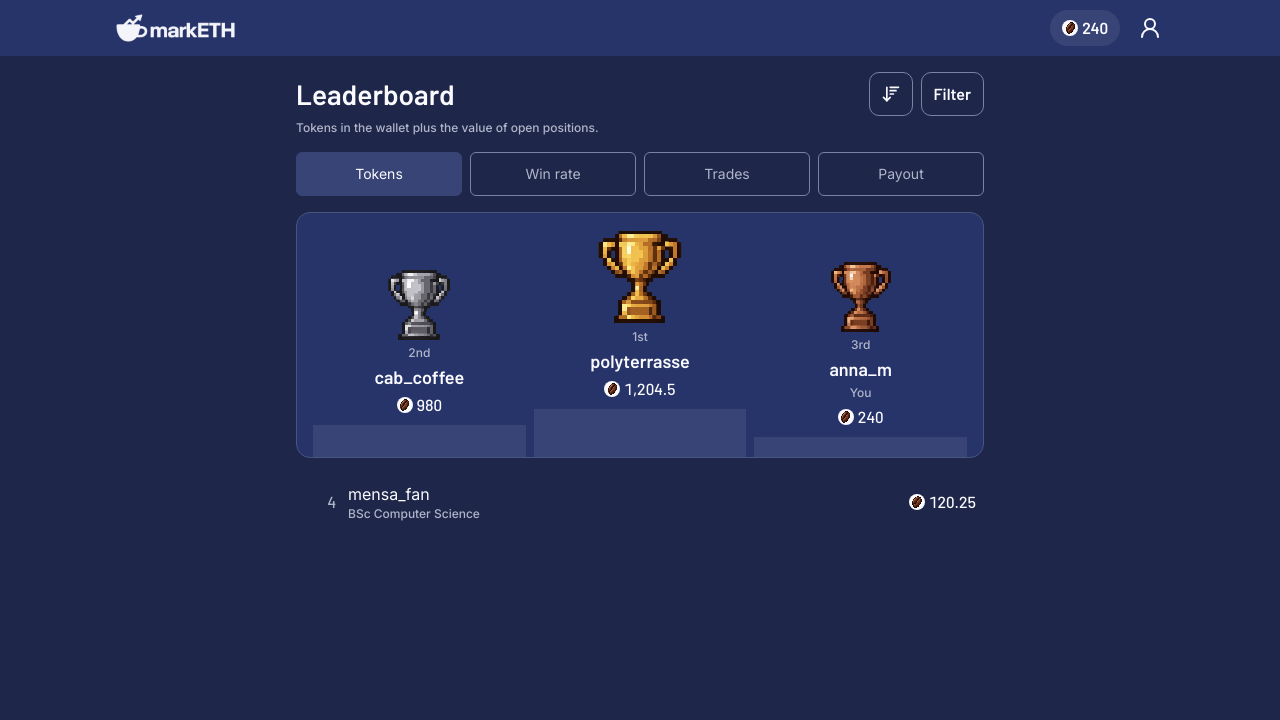
Test: what the sheet offers › the Programme picker is disabled until a level is chosen, then holds the programmes of that level
Expected: the element that starts with "1st" is shown, [296,212,984,530]
Click the button "Filter". click: (952, 94)
box: [921,72,984,116]
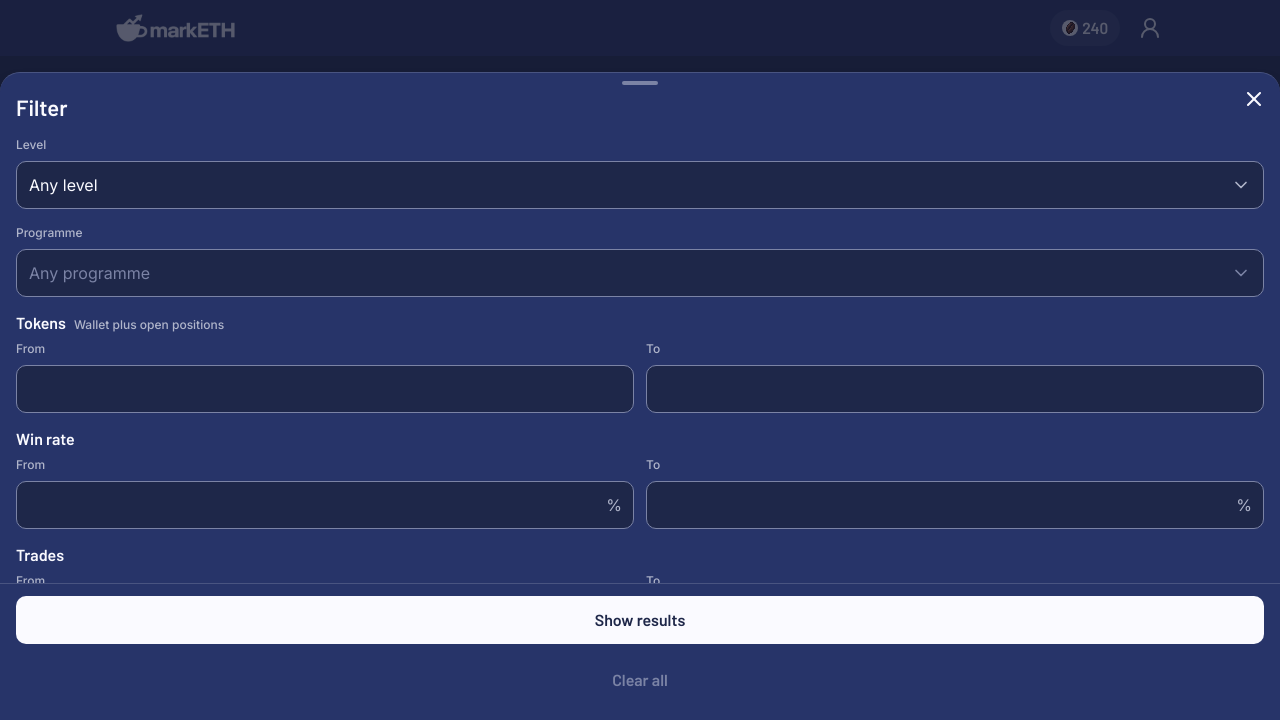
Now the button labelled "Any programme" is disabled, box [16,249,1264,297]
Click the button labelled "Any level". click: (63, 185)
box: [16,161,1264,209]
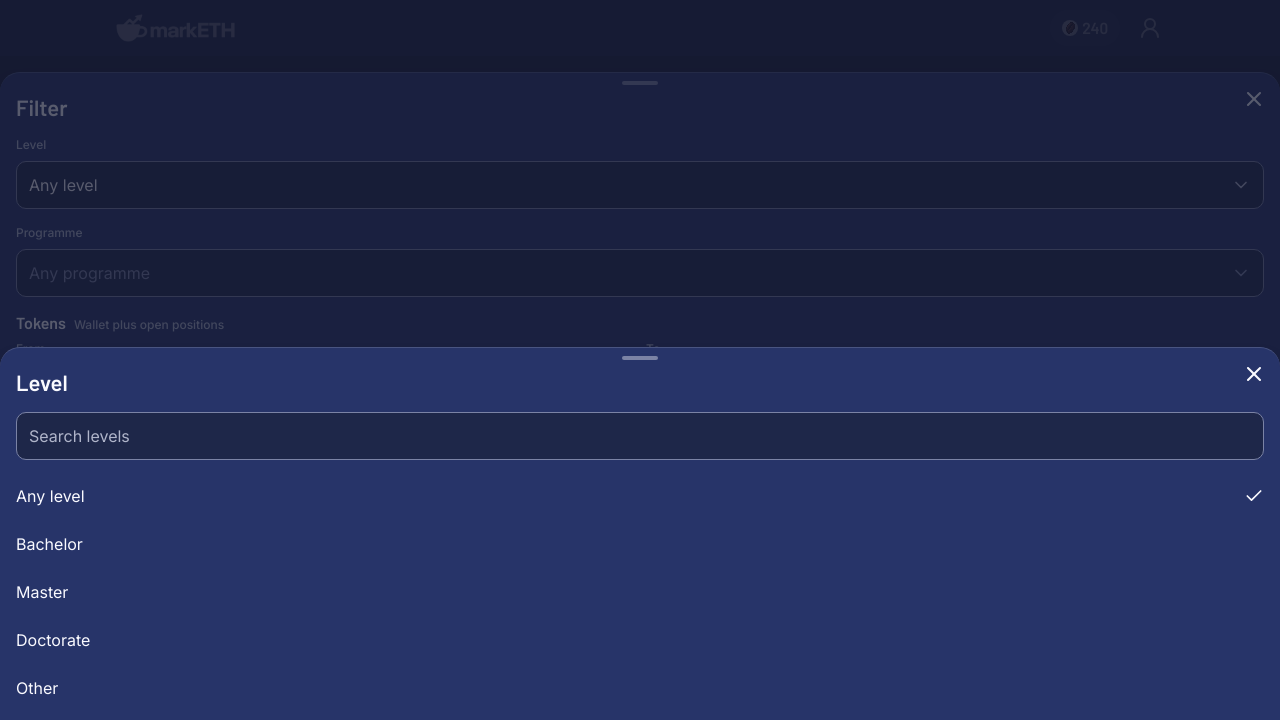
Type "mast" into the search field. click: (640, 436)
box: [16,412,1264,460]
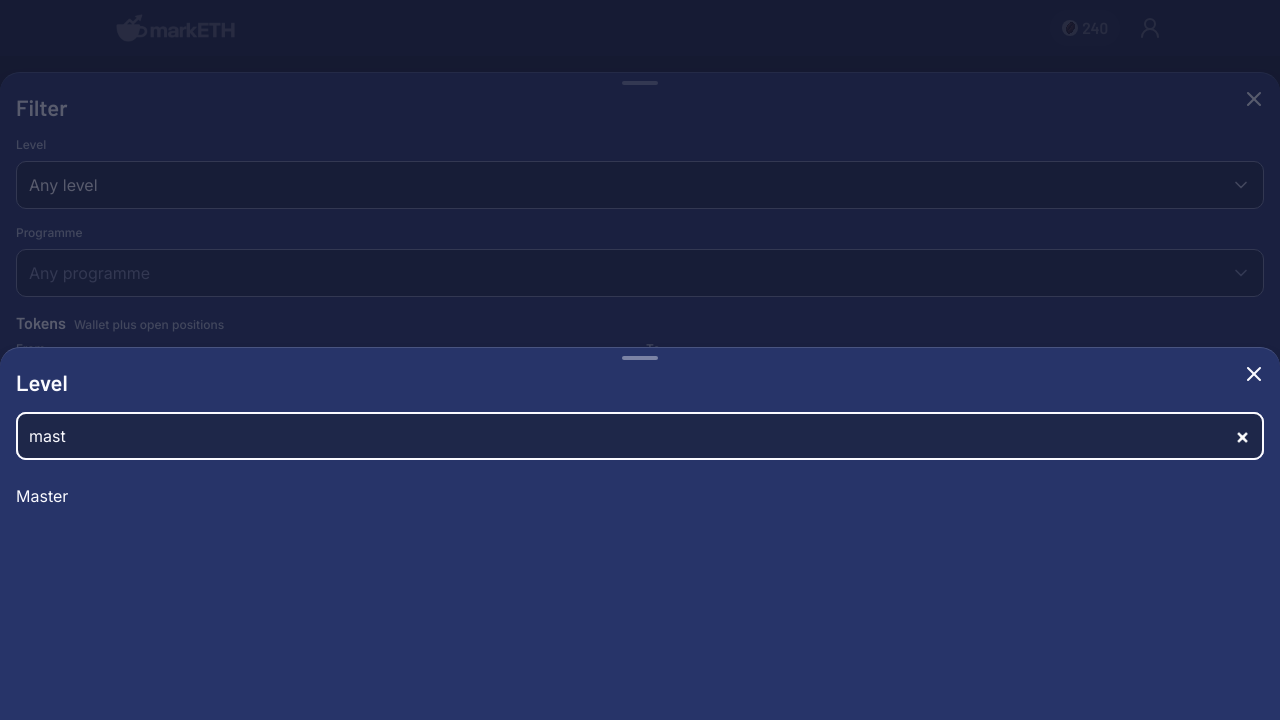
Click the option "Master". click: (42, 496)
box: [16,486,68,506]
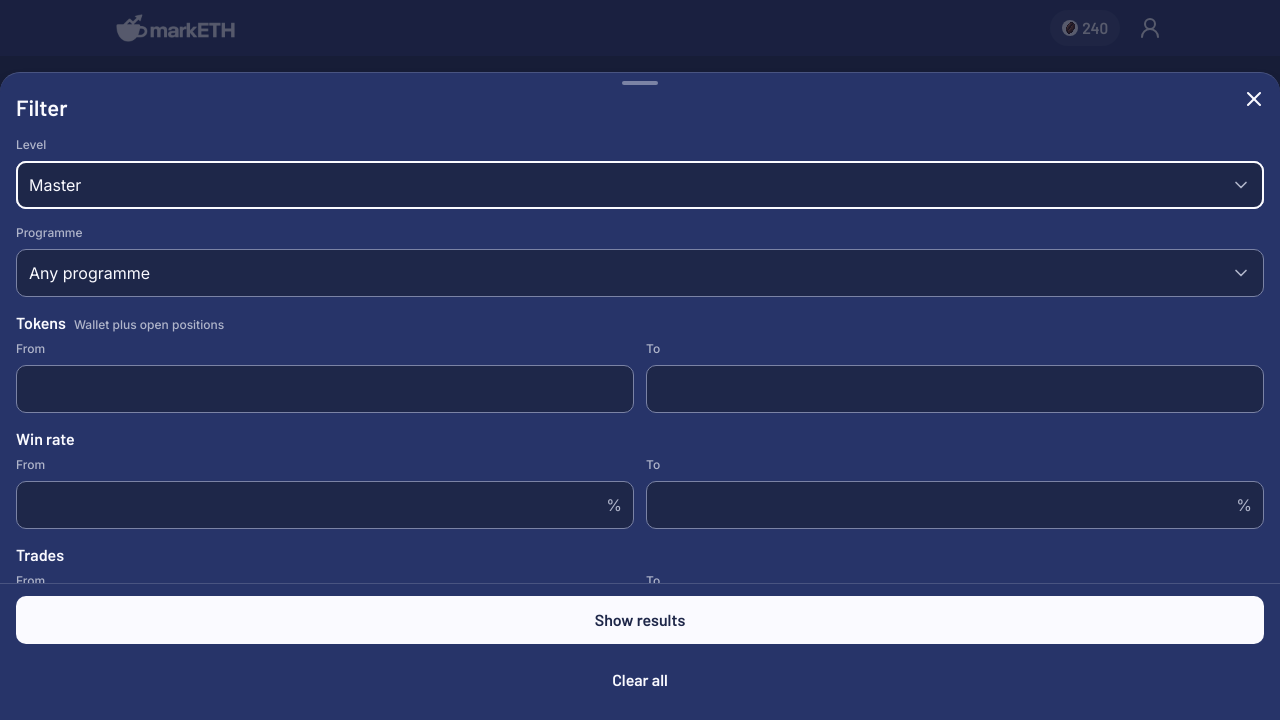
Now the dialog "Filter" is shown
Now the button labelled "Any programme" is enabled
Click the button labelled "Any programme". click: (90, 273)
box: [16,249,1264,297]
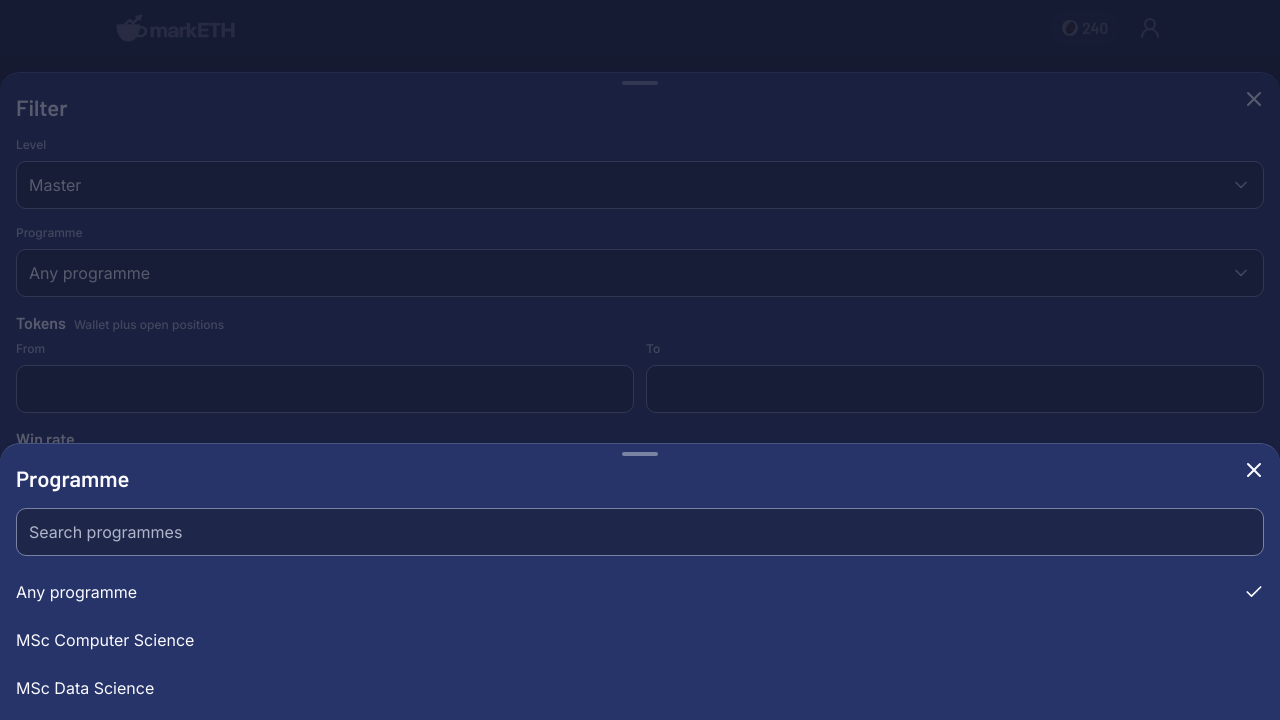
Now the search field labelled "Search programmes" is shown, box [16,508,1264,556]
